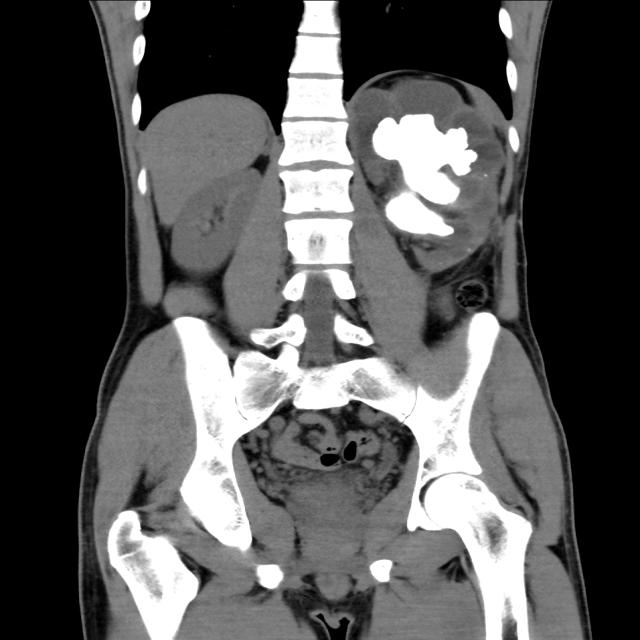kidneystone: (373, 114, 478, 203), (386, 194, 453, 236)
